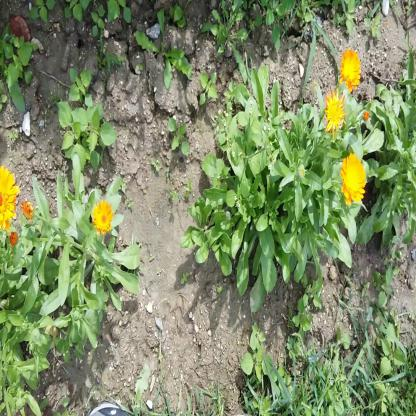marigold: (340, 153, 364, 203), (0, 165, 18, 230), (340, 50, 362, 88), (325, 92, 346, 130), (92, 200, 113, 234)
